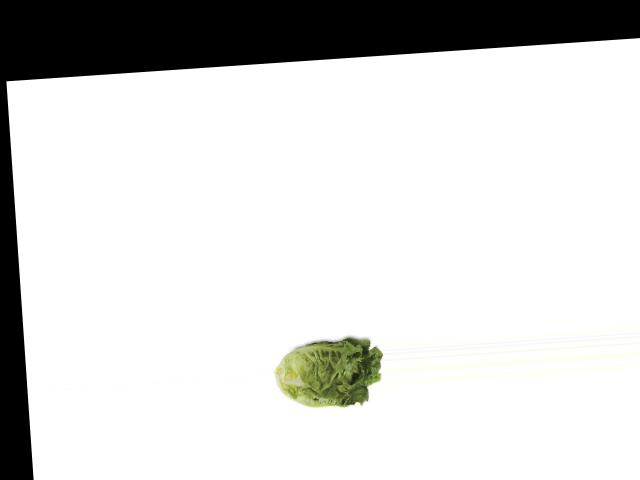lettuce: (272, 331, 383, 417)
